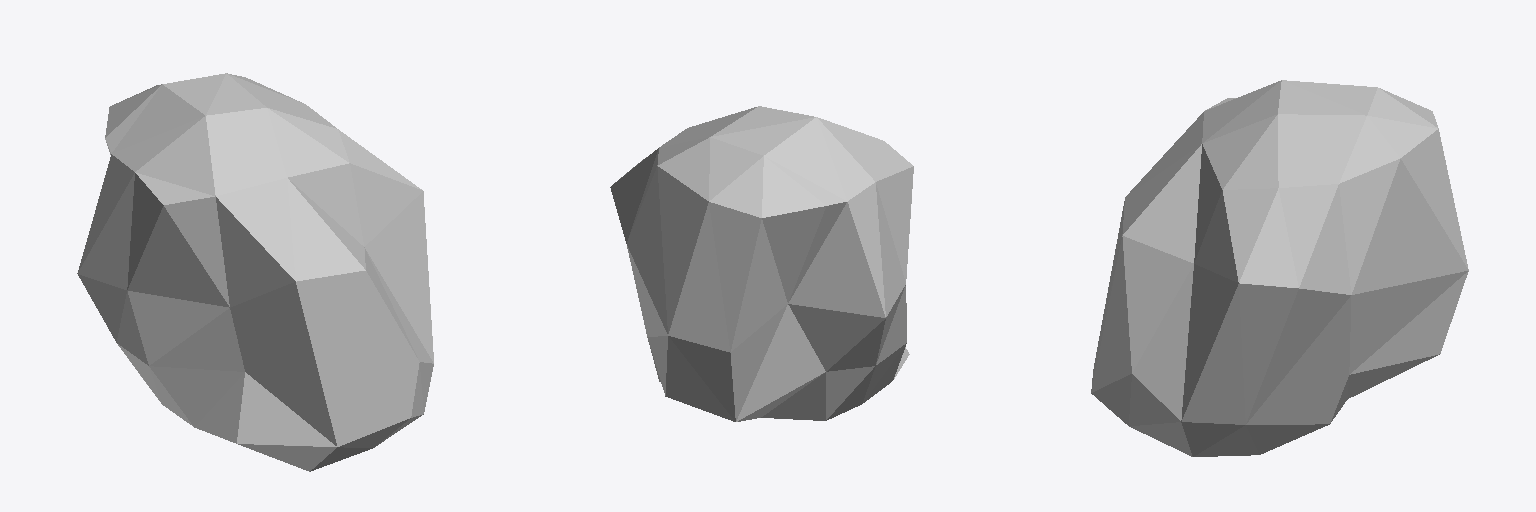
File: Small Rock.obj
3 views of the same model, side by side, from view 1: azimuth 30°, elevation 25°; view 2: azimuth 150°, elevation 25°; view 3: azimuth 270°, elevation 25° (orthographic).
Visible parts, largest first — view 1: Rock7_Cube.009; view 2: Rock7_Cube.009; view 3: Rock7_Cube.009.
Boxes of the visible parts, box(x1,y1,x2,y2) form: Rock7_Cube.009: box(77, 73, 433, 471); Rock7_Cube.009: box(610, 106, 913, 421); Rock7_Cube.009: box(1091, 80, 1468, 456).
Bounding box in the file's own units: 3.61 × 3.53 × 3.98.